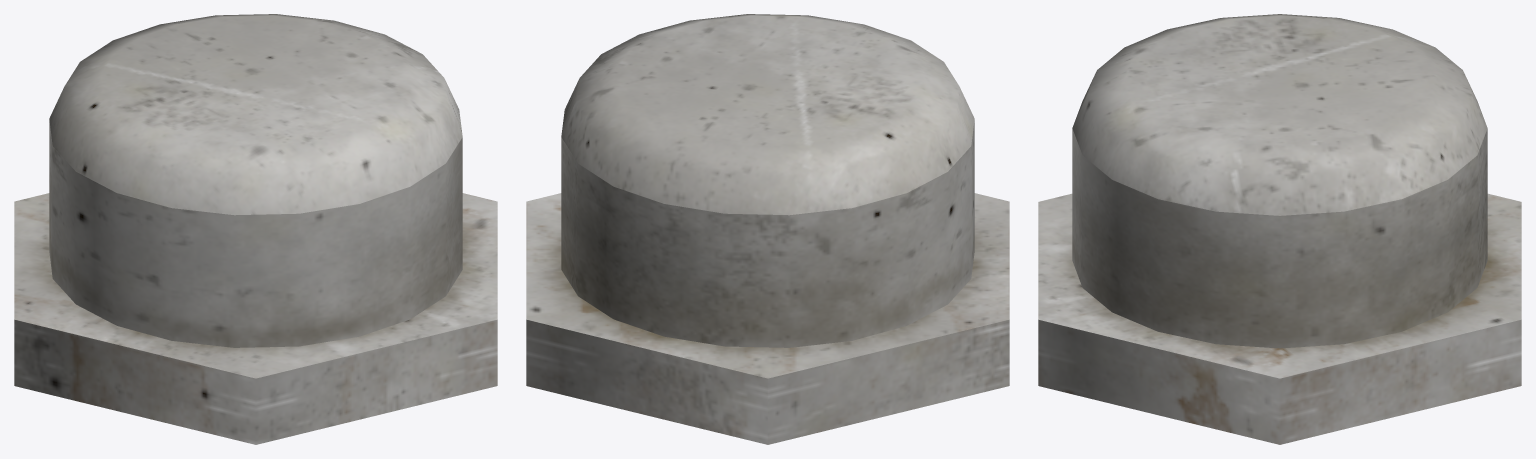
The model's file is PlasticPipe_14a_snaps011.fbx.
3 renders of one model, left to right at view 1: azimuth 30°, elevation 25°; view 2: azimuth 150°, elevation 25°; view 3: azimuth 270°, elevation 25°, orthographic.
Visible parts, largest first — view 1: PlasticPipe_14a_snaps011_LOD0; view 2: PlasticPipe_14a_snaps011_LOD0; view 3: PlasticPipe_14a_snaps011_LOD0.
Boxes of the visible parts, <box> form: PlasticPipe_14a_snaps011_LOD0: <box>14,14,497,444</box>; PlasticPipe_14a_snaps011_LOD0: <box>526,14,1009,444</box>; PlasticPipe_14a_snaps011_LOD0: <box>1038,14,1521,444</box>.
Size of what is drawn, in the model's own units: 35.23 by 17.1 by 30.51.
